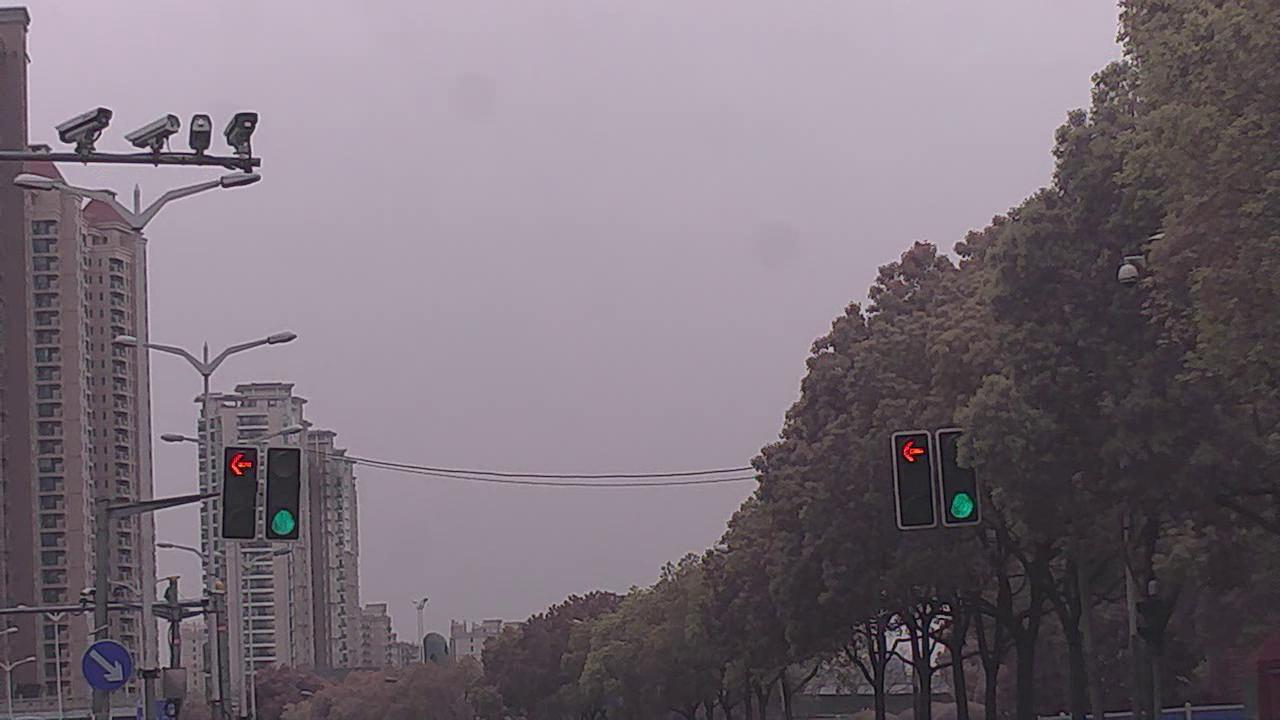traffic_light: (934, 430, 978, 523), (890, 430, 931, 526), (224, 444, 259, 540), (266, 444, 297, 539)
